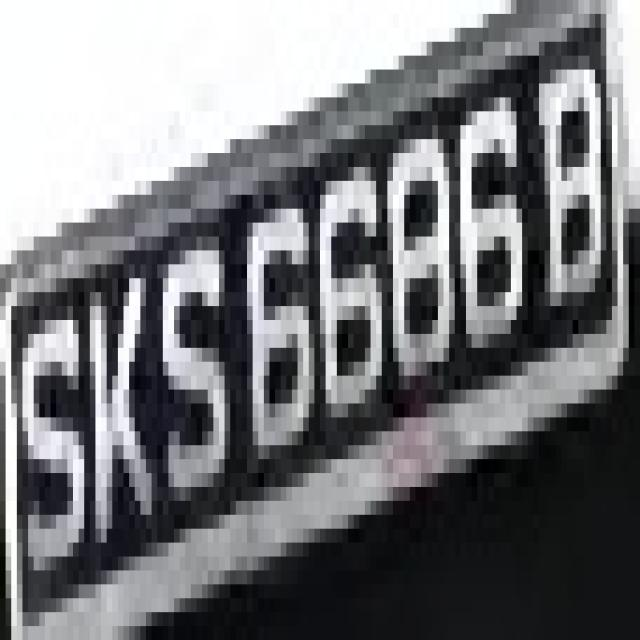6: (314, 125, 382, 473), (241, 153, 309, 487), (454, 70, 516, 418)
8: (376, 111, 455, 432)
B: (534, 0, 618, 348)
K: (78, 195, 162, 556)
S: (17, 251, 90, 598), (163, 194, 230, 528)
